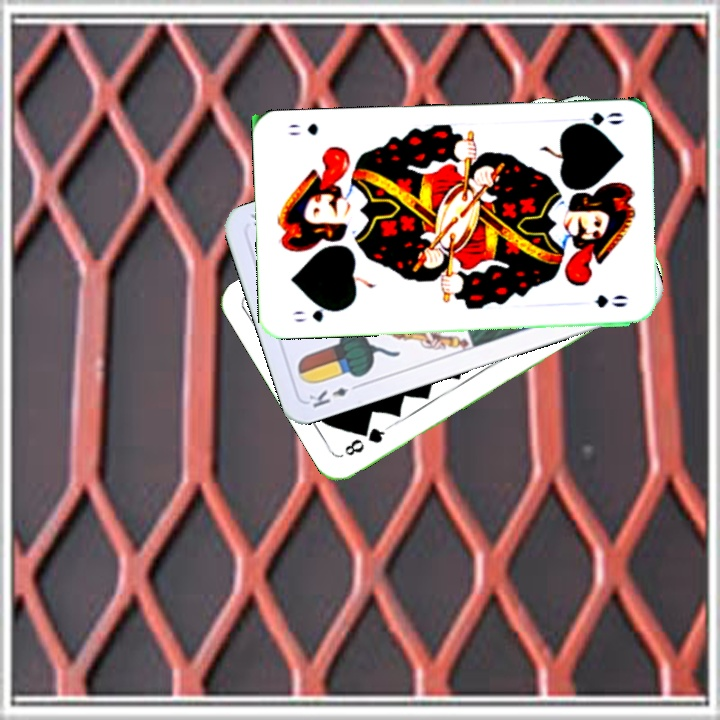EK: (304, 379, 364, 411)
G8: (340, 422, 391, 459)
GO: (567, 108, 626, 133), (288, 302, 342, 325)
